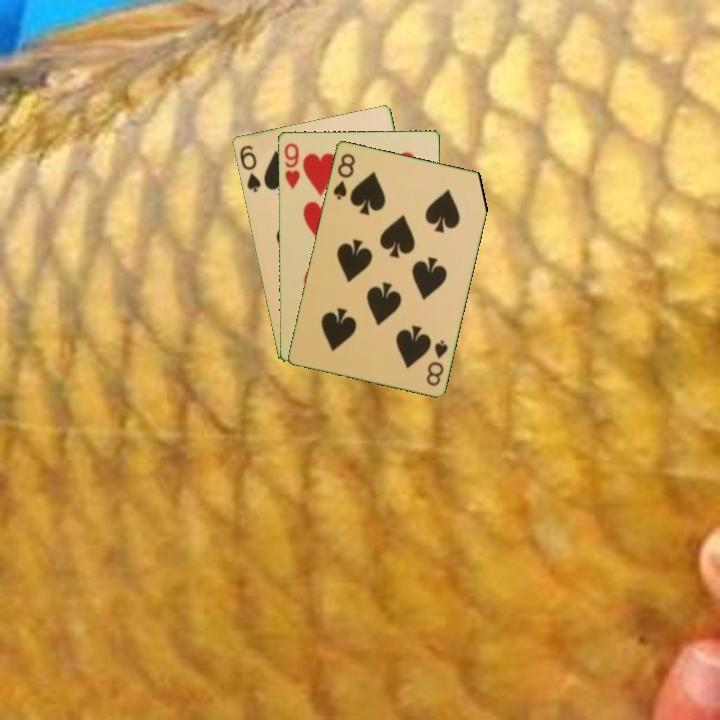6s: (236, 141, 263, 195)
8s: (329, 149, 358, 202), (422, 336, 451, 389)
9h: (281, 139, 303, 191)
